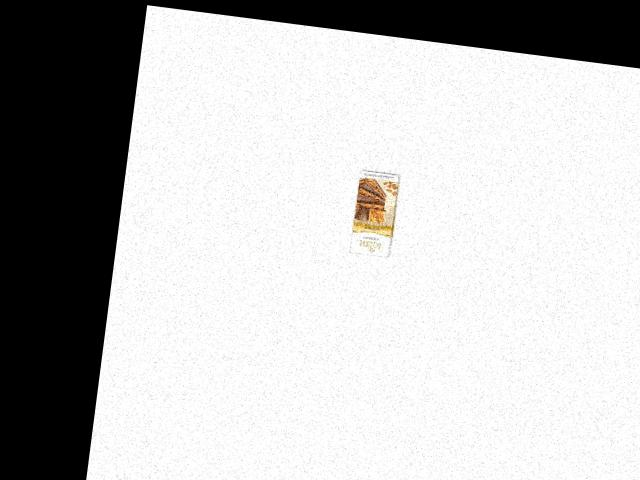chocolate: (340, 165, 416, 264)
